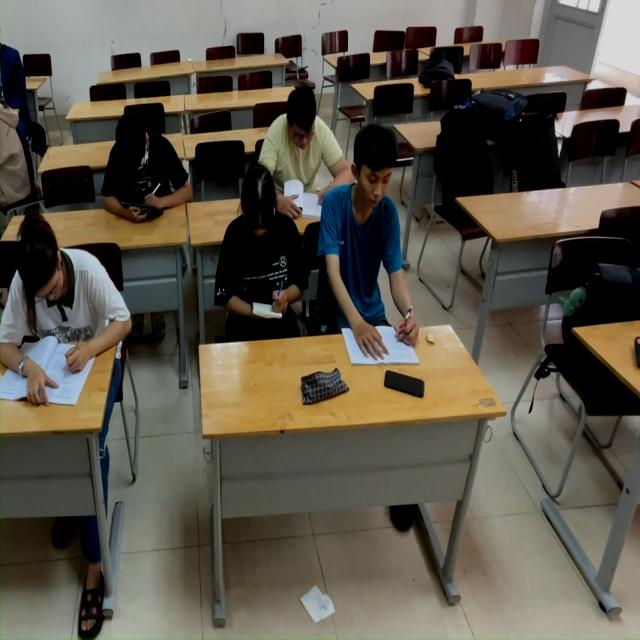read: (1, 213, 128, 421), (326, 131, 431, 378), (209, 160, 318, 363), (98, 105, 191, 235), (281, 94, 347, 211)
